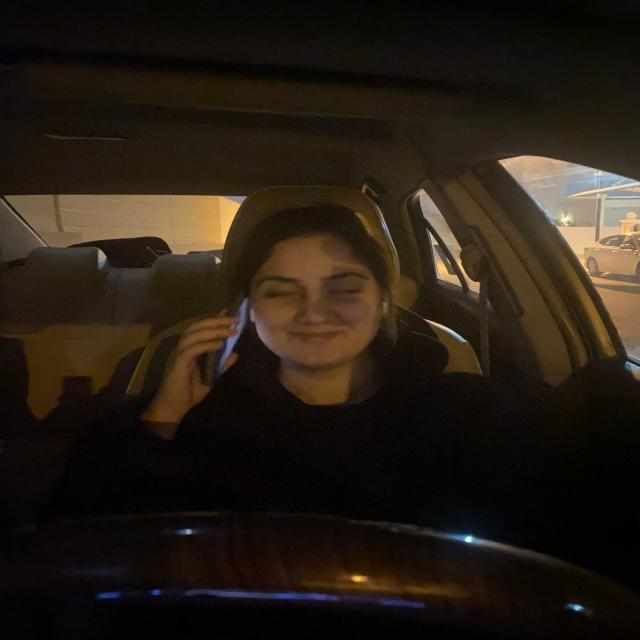mobile: (205, 284, 255, 380)
person: (239, 210, 389, 369)
